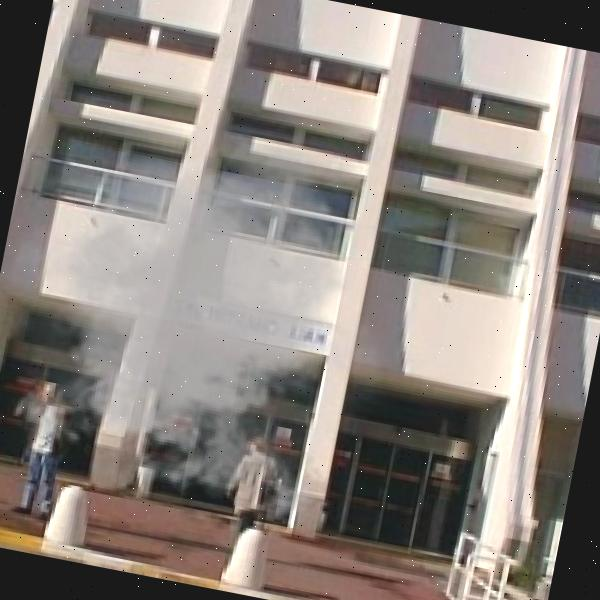smoke: (0, 88, 441, 548)
